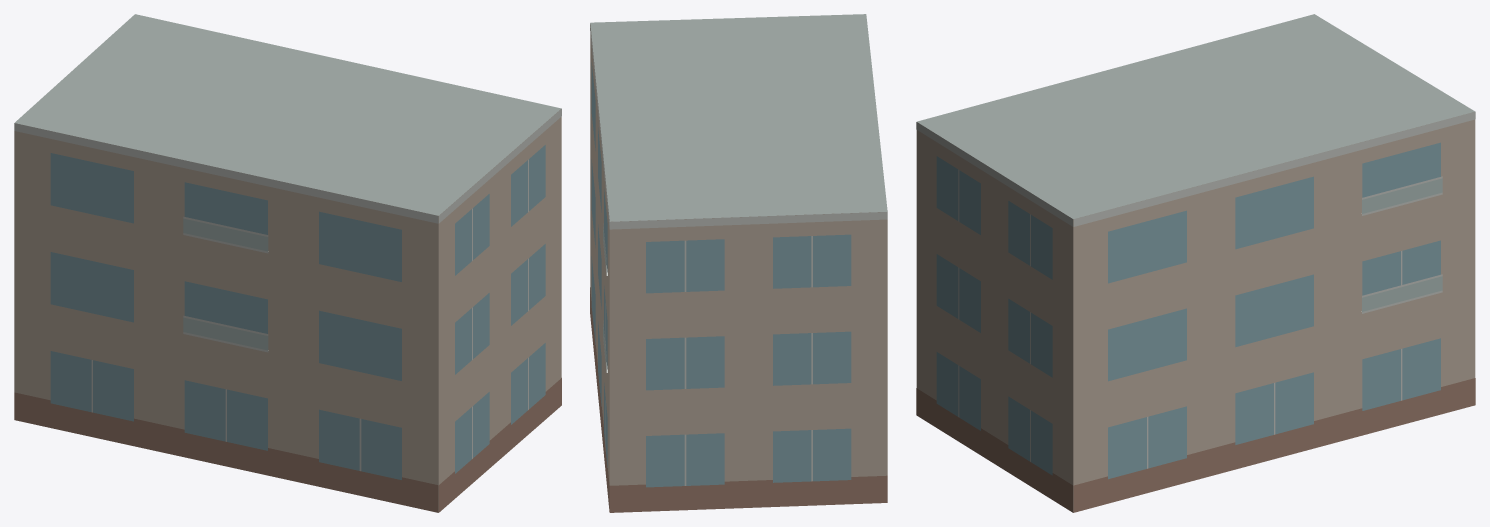
The model's file is survey-upis-32627494.glb.
3 renders of one model, left to right at view 1: azimuth 30°, elevation 25°; view 2: azimuth 150°, elevation 25°; view 3: azimuth 270°, elevation 25°, orthographic. The views are drawn at different scales.
Parts seen in each view (by area): view 1: survey-upis-32627494.tmp; view 2: survey-upis-32627494.tmp; view 3: survey-upis-32627494.tmp.
Boxes of the visible parts, x1,y1,x2,y2 form: survey-upis-32627494.tmp: (14, 14, 561, 512); survey-upis-32627494.tmp: (590, 14, 887, 512); survey-upis-32627494.tmp: (916, 14, 1475, 512).
Bounding box in the file's own units: 13.73 × 9.15 × 15.8.
